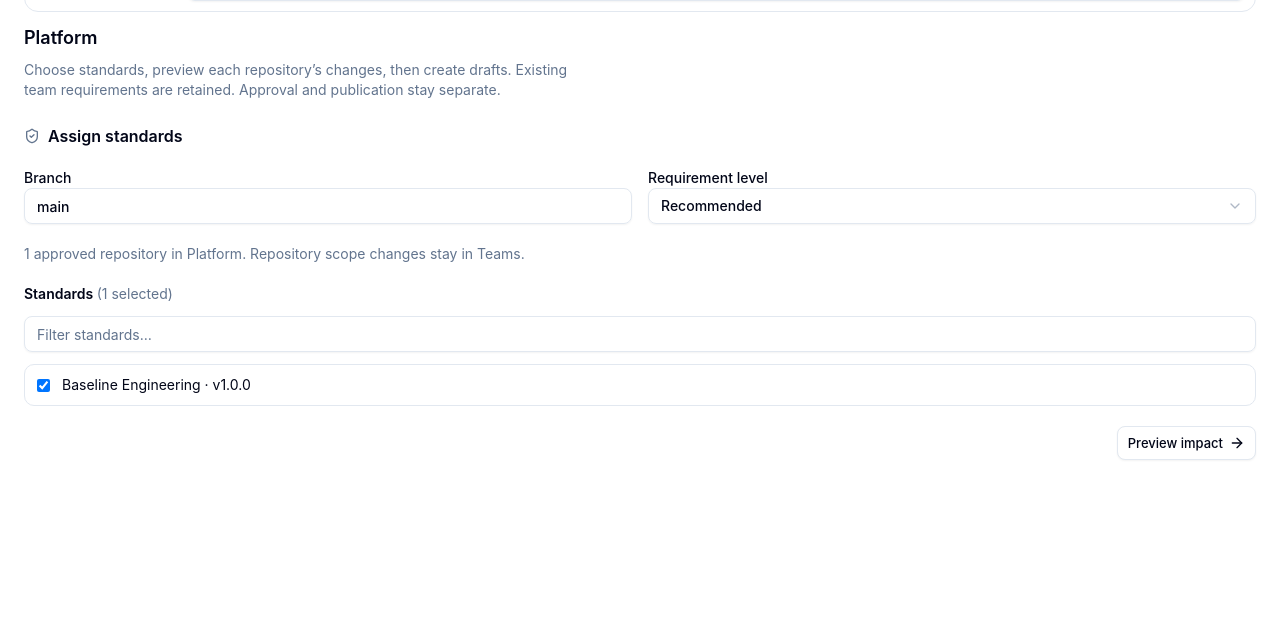
it: blocks conflicting or empty previews and discards preview when the branch changes
Step 1. Click the button "Preview impact" → (1186,443), box [1117, 426, 1256, 460]
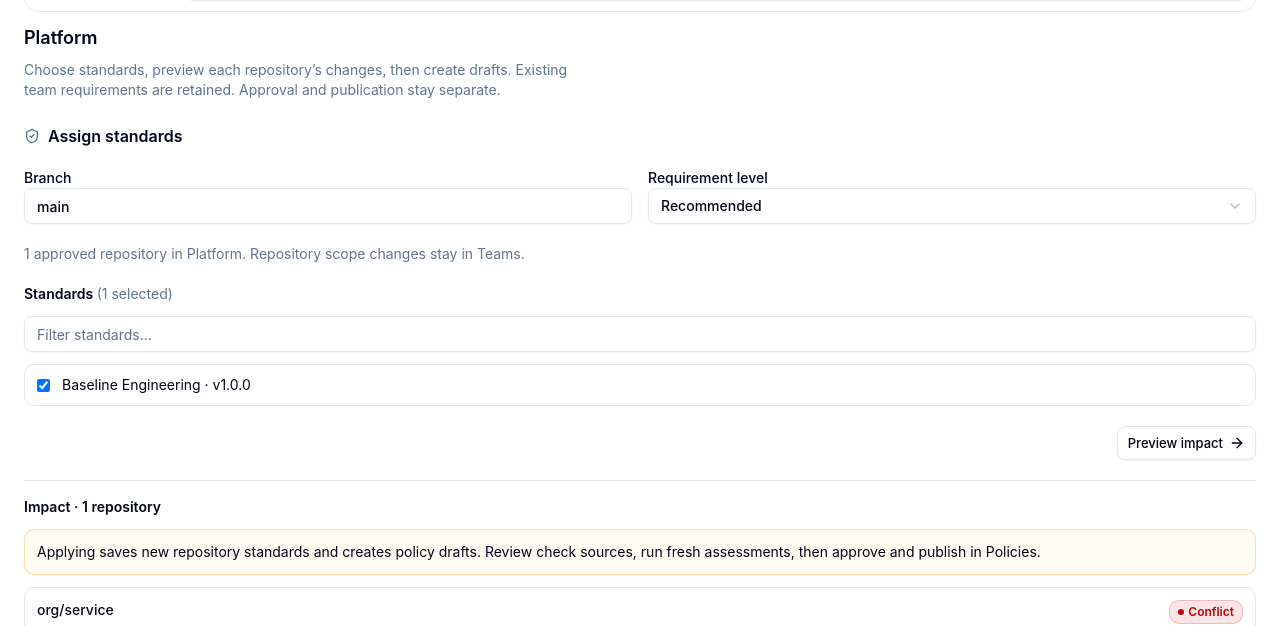
Step 2. Replace the text in the field labelled "Branch" with "development" → (328,206), box [24, 188, 632, 224]
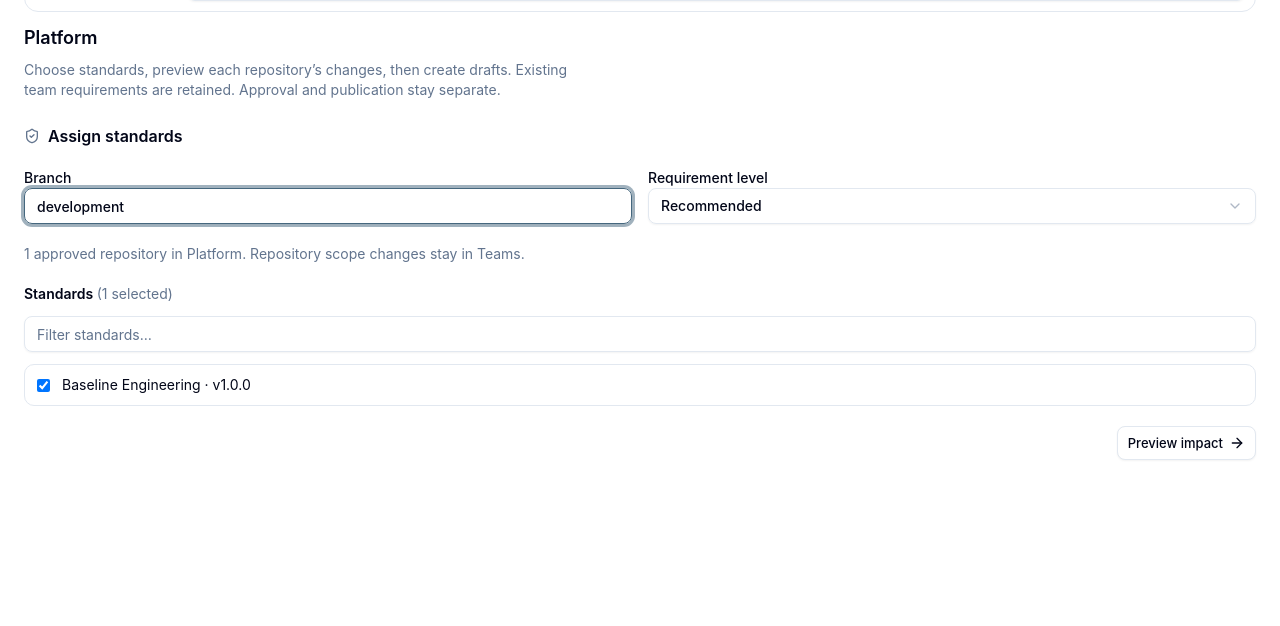
Step 3. Click the button "Preview impact" → (1186,443), box [1117, 426, 1256, 460]
(page scrolled)
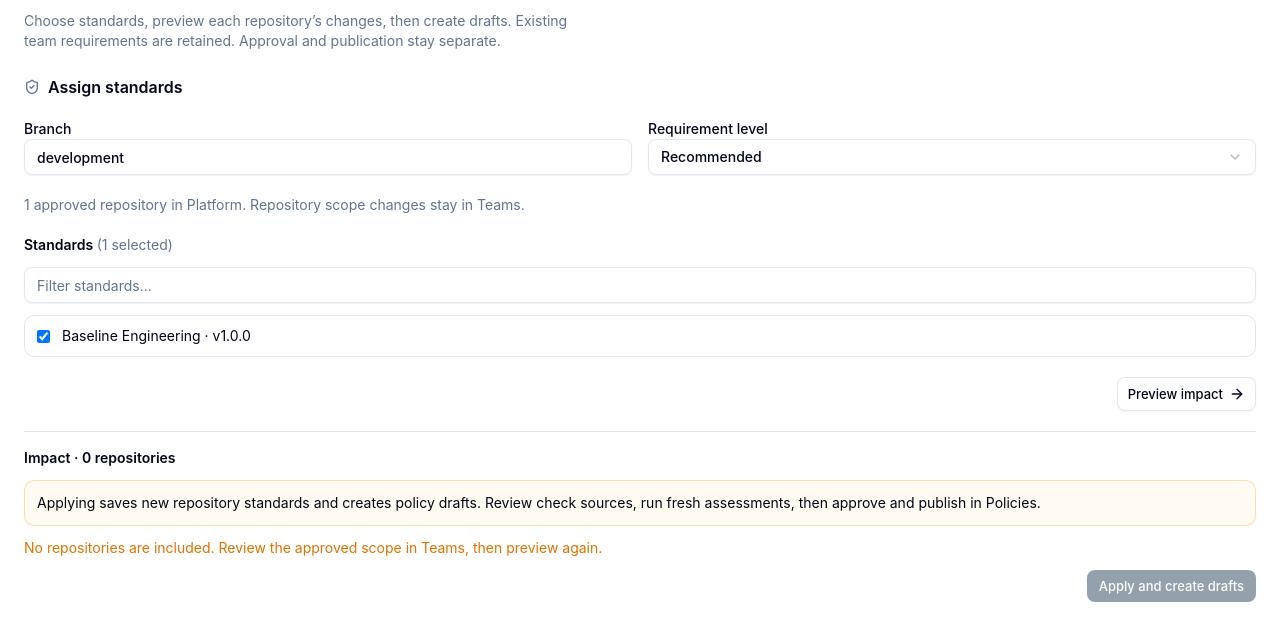
Check: the message shows "No repositories are included", box [24, 539, 602, 556]
Check: the button "Apply and create drafts" is disabled, box [1087, 570, 1256, 602]
